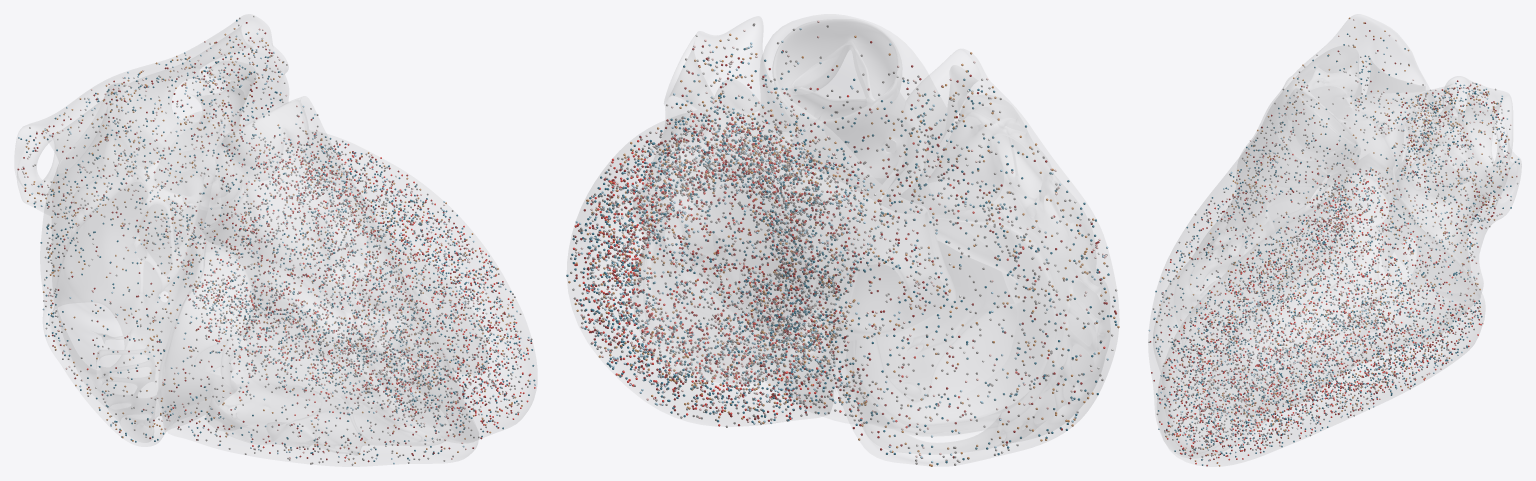
File: 3d-vh-m-heart-UBERON_0000948-all-as-pan-human-azimuth-sphere-hra-pop.glb
3 renders of one model, left to right at view 1: azimuth 30°, elevation 25°; view 2: azimuth 150°, elevation 25°; view 3: azimuth 270°, elevation 25°, orthographic. The views are drawn at different scales.
Parts seen in each view (by area): view 1: VH_M_heart_right_ventricle, VH_M_right_cardiac_atrium, VH_M_heart_left_ventricle, VH_M_left_cardiac_atrium, VH_M_tricuspid_valve, VH_M_pulmonary_valve, VH_M_aortic_valve, VH_M_papillary_muscle_of_heart_anterior, VH_M_interventricular_septum; view 2: VH_M_right_cardiac_atrium, VH_M_left_cardiac_atrium, VH_M_heart_right_ventricle, VH_M_mitral_valve, VH_M_heart_left_ventricle, VH_M_pulmonary_valve, VH_M_tricuspid_valve, VH_M_aortic_valve, VH_M_papillary_muscle_of_heart_posteromedial; view 3: VH_M_heart_left_ventricle, VH_M_heart_right_ventricle, VH_M_left_cardiac_atrium, VH_M_right_cardiac_atrium, VH_M_papillary_muscle_of_heart_anterolateral, VH_M_pulmonary_valve, VH_M_mitral_valve, VH_M_interventricular_septum, VH_M_aortic_valve, VH_M_papillary_muscle_of_heart_posteromedial, VH_M_tricuspid_valve.
Part boxes in pixels (x1,y1,x2,y2): VH_M_heart_right_ventricle: (162, 96, 478, 466); VH_M_right_cardiac_atrium: (40, 83, 215, 446); VH_M_heart_left_ventricle: (196, 131, 536, 442); VH_M_left_cardiac_atrium: (15, 14, 288, 215); VH_M_tricuspid_valve: (157, 242, 251, 431); VH_M_pulmonary_valve: (221, 100, 308, 180); VH_M_aortic_valve: (167, 116, 240, 209); VH_M_papillary_muscle_of_heart_anterior: (284, 356, 366, 398); VH_M_interventricular_septum: (209, 194, 478, 443); VH_M_right_cardiac_atrium: (827, 49, 1118, 465); VH_M_left_cardiac_atrium: (633, 16, 955, 383); VH_M_heart_right_ventricle: (756, 14, 1023, 435); VH_M_mitral_valve: (643, 185, 822, 383); VH_M_heart_left_ventricle: (567, 110, 833, 426); VH_M_pulmonary_valve: (773, 19, 901, 119); VH_M_tricuspid_valve: (854, 219, 1016, 432); VH_M_aortic_valve: (788, 113, 902, 201); VH_M_papillary_muscle_of_heart_posteromedial: (696, 261, 734, 310); VH_M_heart_left_ventricle: (1157, 153, 1484, 466); VH_M_heart_right_ventricle: (1148, 86, 1360, 457); VH_M_left_cardiac_atrium: (1355, 76, 1521, 292); VH_M_right_cardiac_atrium: (1236, 14, 1438, 190); VH_M_papillary_muscle_of_heart_anterolateral: (1254, 234, 1384, 366); VH_M_pulmonary_valve: (1278, 88, 1358, 174); VH_M_mitral_valve: (1381, 166, 1480, 303); VH_M_interventricular_septum: (1174, 167, 1388, 390); VH_M_aortic_valve: (1337, 119, 1403, 186); VH_M_papillary_muscle_of_heart_posteromedial: (1260, 313, 1378, 374); VH_M_tricuspid_valve: (1252, 189, 1319, 229).
Size of the model in its own units: 0.1244 by 0.1054 by 0.1052.
